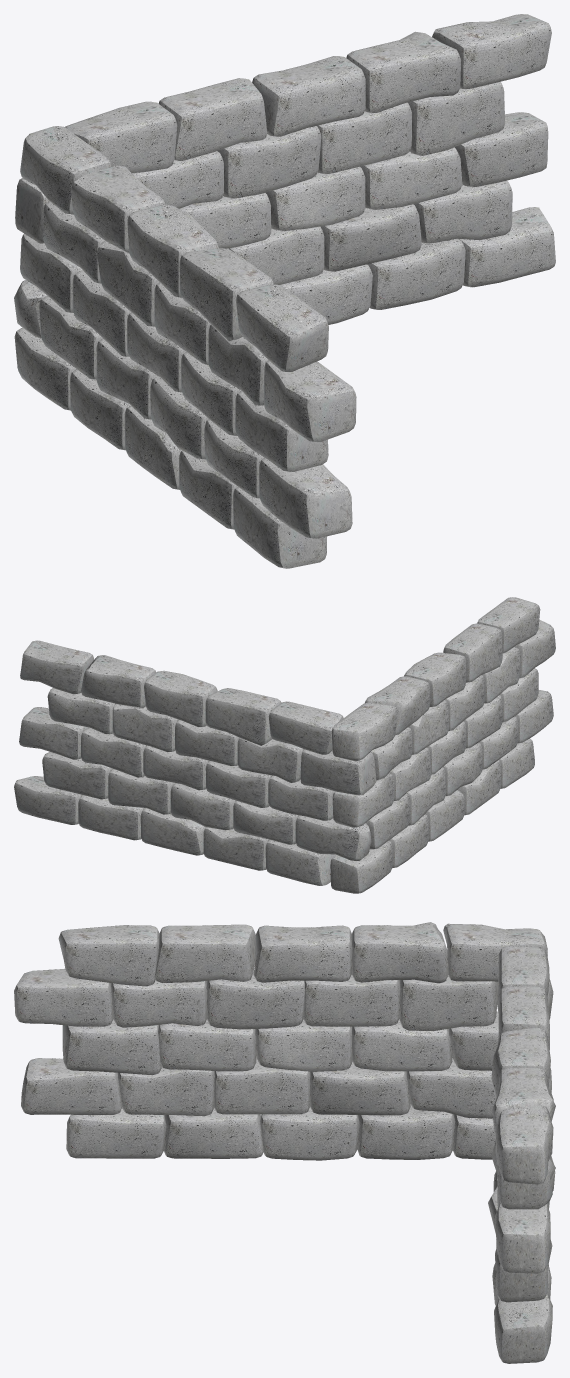
Rendered from Stone_Corner.fbx.
The picture shows the model from 3 angles, top to bottom: view 1: azimuth 30°, elevation 25°; view 2: azimuth 150°, elevation 25°; view 3: azimuth 270°, elevation 25°; orthographic projection. The views are drawn at different scales.
Visible parts, largest first — view 1: pCube32; view 2: pCube32; view 3: pCube32.
Part boxes in pixels (x1=…): pCube32: x1=14, y1=14, x2=555, y2=568; pCube32: x1=14, y1=597, x2=555, y2=893; pCube32: x1=14, y1=922, x2=555, y2=1363.
Size of the model in its own units: 11.17 by 5.01 by 11.11.
1 material, 1 textured.
